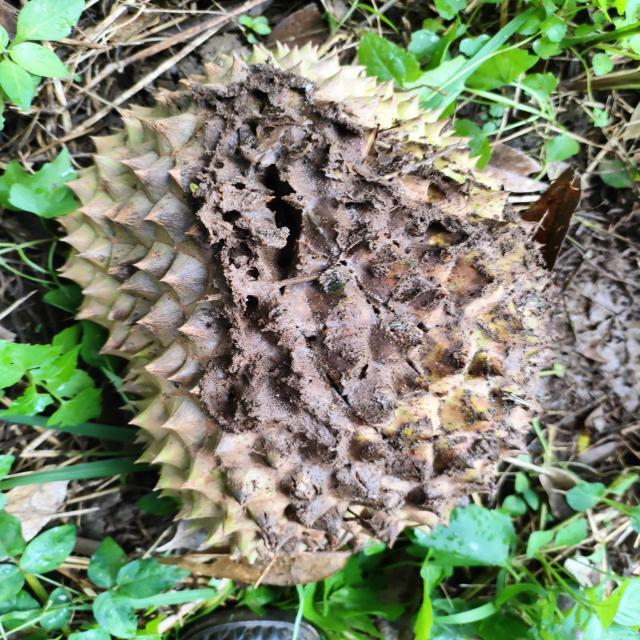defective: (58, 39, 558, 581)
